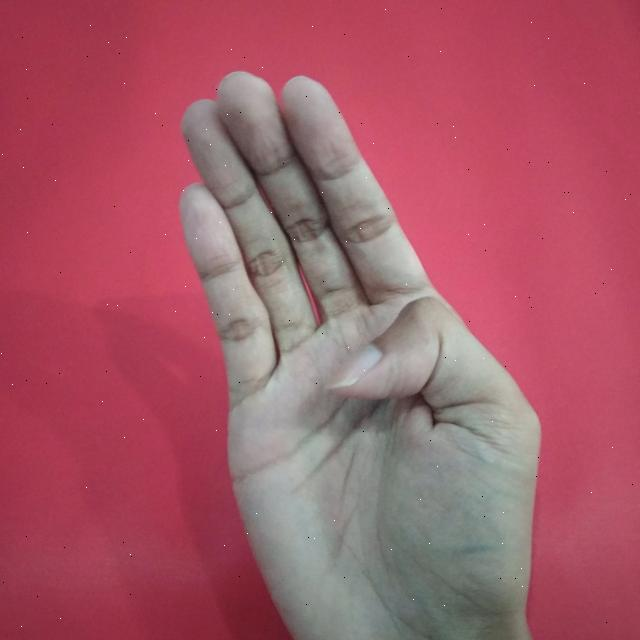B: (168, 62, 552, 640)
